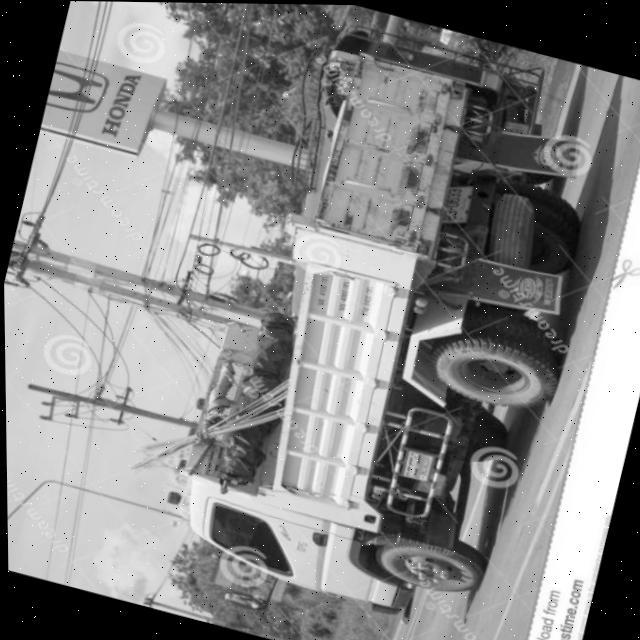truck: (106, 1, 627, 640)
